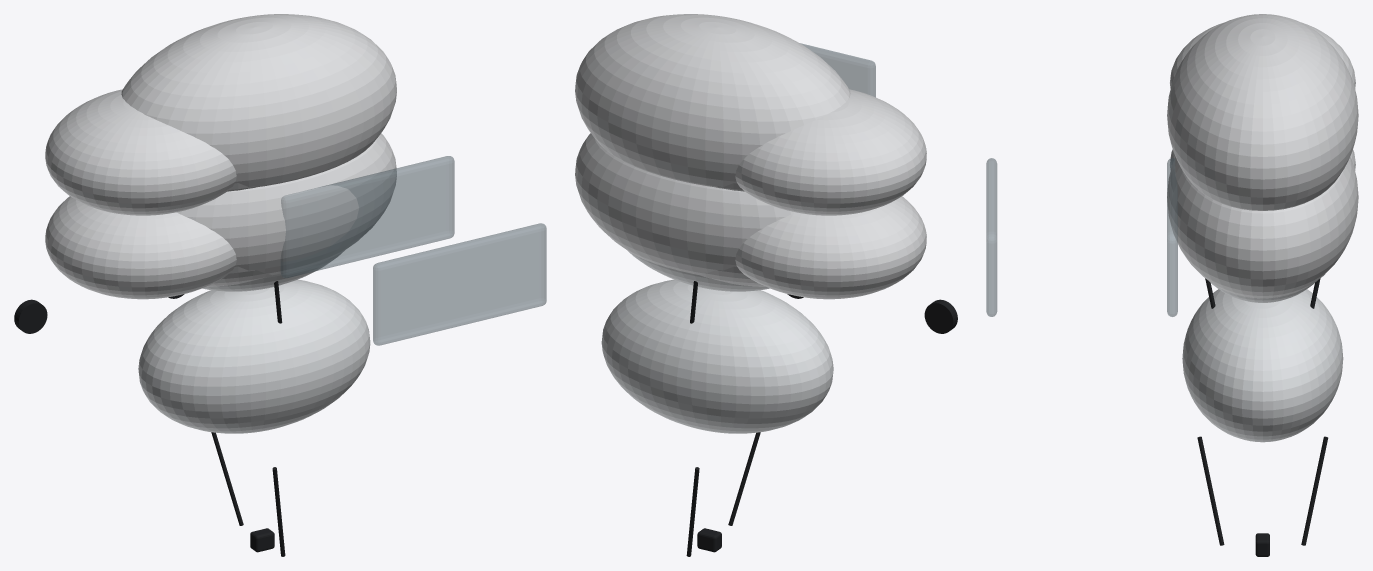
File: giro-aerohead-mips-ii-m.glb
The picture shows the model from 3 angles, left to right: view 1: azimuth 30°, elevation 25°; view 2: azimuth 150°, elevation 25°; view 3: azimuth 270°, elevation 25°; orthographic projection. The views are drawn at different scales.
Visible parts, largest first — view 1: giro-aerohead-mips-ii-m_OUTER_HARDSHELL_EXPLODED, giro-aerohead-mips-ii-m_EPS_LINER_EXPLODED, giro-aerohead-mips-ii-m_TAIL_EXPLODED, giro-aerohead-mips-ii-m_OUTER_HARDSHELL, giro-aerohead-mips-ii-m_MAGNETIC_VISOR_EXPLODED, giro-aerohead-mips-ii-m_MAGNETIC_VISOR, giro-aerohead-mips-ii-m_TAIL, giro-aerohead-mips-ii-m_EPS_LINER, giro-aerohead-mips-ii-m_ROCLOC_DIAL_EXPLODED; view 2: giro-aerohead-mips-ii-m_OUTER_HARDSHELL_EXPLODED, giro-aerohead-mips-ii-m_EPS_LINER_EXPLODED, giro-aerohead-mips-ii-m_TAIL_EXPLODED, giro-aerohead-mips-ii-m_OUTER_HARDSHELL, giro-aerohead-mips-ii-m_TAIL, giro-aerohead-mips-ii-m_MAGNETIC_VISOR_EXPLODED, giro-aerohead-mips-ii-m_EPS_LINER, giro-aerohead-mips-ii-m_ROCLOC_DIAL_EXPLODED, giro-aerohead-mips-ii-m_LOWER_WRAP, giro-aerohead-mips-ii-m_BUCKLE_EXPLODED, giro-aerohead-mips-ii-m_STRAP_L_EXPLODED; view 3: giro-aerohead-mips-ii-m_OUTER_HARDSHELL_EXPLODED, giro-aerohead-mips-ii-m_EPS_LINER_EXPLODED, giro-aerohead-mips-ii-m_OUTER_HARDSHELL, giro-aerohead-mips-ii-m_MAGNETIC_VISOR_EXPLODED, giro-aerohead-mips-ii-m_MAGNETIC_VISOR, giro-aerohead-mips-ii-m_TAIL_EXPLODED, giro-aerohead-mips-ii-m_STRAP_L_EXPLODED, giro-aerohead-mips-ii-m_STRAP_R_EXPLODED.
Part boxes in pixels (bbox=[...]): giro-aerohead-mips-ii-m_OUTER_HARDSHELL_EXPLODED: bbox=[121, 14, 396, 186]; giro-aerohead-mips-ii-m_EPS_LINER_EXPLODED: bbox=[138, 279, 370, 433]; giro-aerohead-mips-ii-m_TAIL_EXPLODED: bbox=[45, 89, 236, 215]; giro-aerohead-mips-ii-m_OUTER_HARDSHELL: bbox=[177, 133, 396, 275]; giro-aerohead-mips-ii-m_MAGNETIC_VISOR_EXPLODED: bbox=[373, 223, 546, 345]; giro-aerohead-mips-ii-m_MAGNETIC_VISOR: bbox=[280, 156, 454, 277]; giro-aerohead-mips-ii-m_TAIL: bbox=[45, 196, 236, 299]; giro-aerohead-mips-ii-m_EPS_LINER: bbox=[202, 251, 343, 291]; giro-aerohead-mips-ii-m_ROCLOC_DIAL_EXPLODED: bbox=[14, 299, 47, 333]; giro-aerohead-mips-ii-m_OUTER_HARDSHELL_EXPLODED: bbox=[575, 14, 850, 186]; giro-aerohead-mips-ii-m_EPS_LINER_EXPLODED: bbox=[601, 279, 833, 433]; giro-aerohead-mips-ii-m_TAIL_EXPLODED: bbox=[735, 89, 926, 215]; giro-aerohead-mips-ii-m_OUTER_HARDSHELL: bbox=[575, 133, 795, 275]; giro-aerohead-mips-ii-m_TAIL: bbox=[735, 196, 926, 299]; giro-aerohead-mips-ii-m_MAGNETIC_VISOR_EXPLODED: bbox=[800, 43, 875, 97]; giro-aerohead-mips-ii-m_EPS_LINER: bbox=[628, 251, 769, 291]; giro-aerohead-mips-ii-m_ROCLOC_DIAL_EXPLODED: bbox=[924, 299, 957, 333]; giro-aerohead-mips-ii-m_LOWER_WRAP: bbox=[700, 266, 765, 286]; giro-aerohead-mips-ii-m_BUCKLE_EXPLODED: bbox=[697, 528, 721, 552]; giro-aerohead-mips-ii-m_STRAP_L_EXPLODED: bbox=[728, 432, 760, 525]; giro-aerohead-mips-ii-m_OUTER_HARDSHELL_EXPLODED: bbox=[1167, 14, 1358, 210]; giro-aerohead-mips-ii-m_EPS_LINER_EXPLODED: bbox=[1182, 289, 1343, 442]; giro-aerohead-mips-ii-m_OUTER_HARDSHELL: bbox=[1167, 156, 1358, 298]; giro-aerohead-mips-ii-m_MAGNETIC_VISOR_EXPLODED: bbox=[986, 158, 997, 316]; giro-aerohead-mips-ii-m_MAGNETIC_VISOR: bbox=[1167, 158, 1177, 316]; giro-aerohead-mips-ii-m_TAIL_EXPLODED: bbox=[1170, 22, 1355, 88]; giro-aerohead-mips-ii-m_STRAP_L_EXPLODED: bbox=[1197, 436, 1224, 545]; giro-aerohead-mips-ii-m_STRAP_R_EXPLODED: bbox=[1301, 436, 1328, 545].
Bounding box in the file's own units: 0.49 × 0.626 × 0.412.
